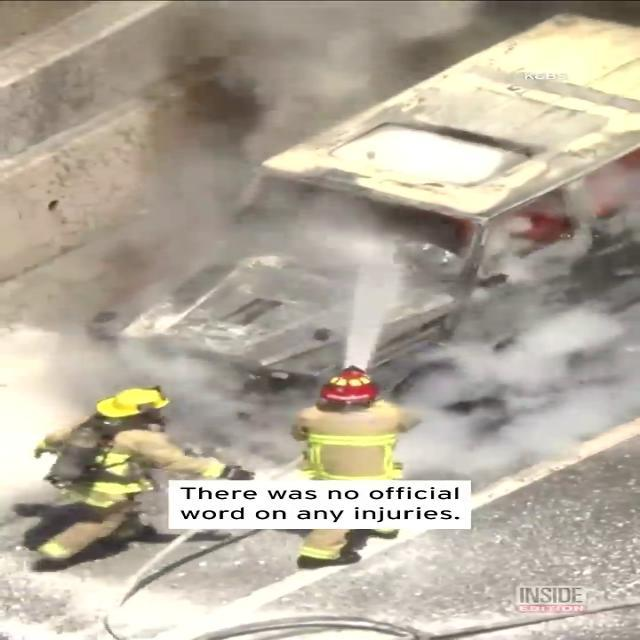Smoke: (2, 0, 426, 394)
